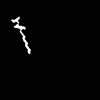double_crochet: (12, 17, 29, 53)
